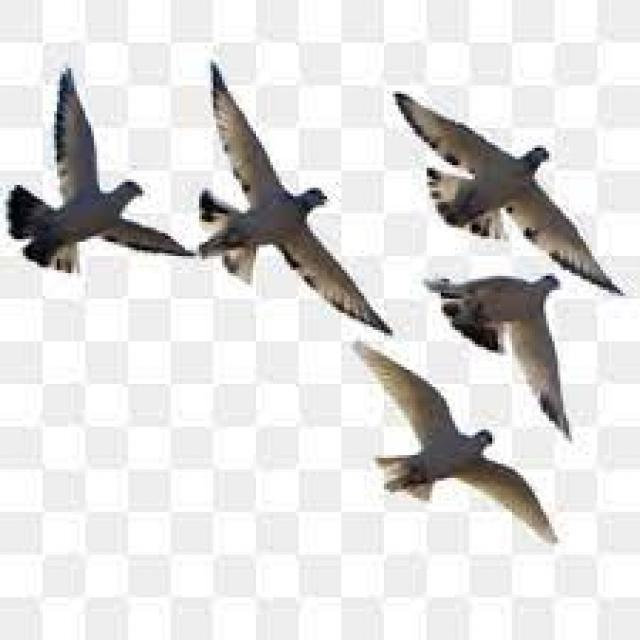bird: (172, 18, 422, 354), (387, 70, 640, 308), (336, 343, 608, 562), (0, 18, 205, 303), (418, 246, 600, 434)
